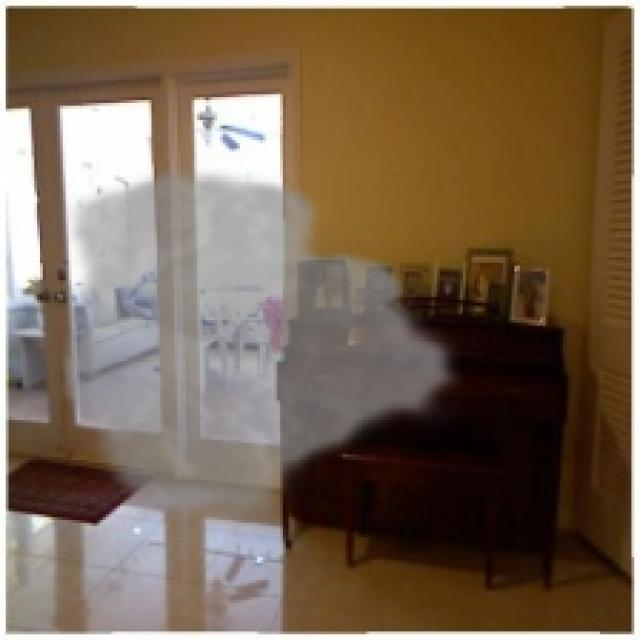Smoke: (54, 163, 466, 526)
